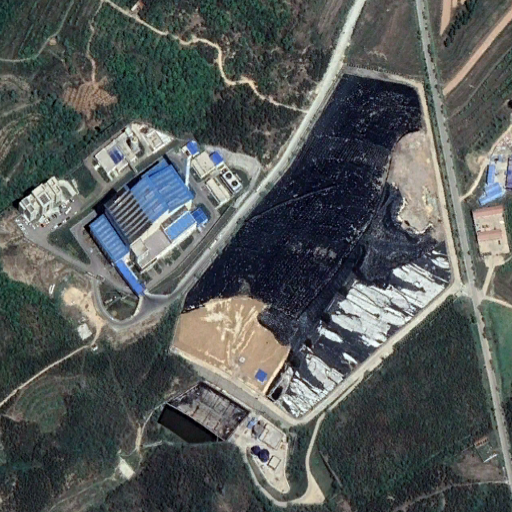lf: (168, 63, 465, 424)
